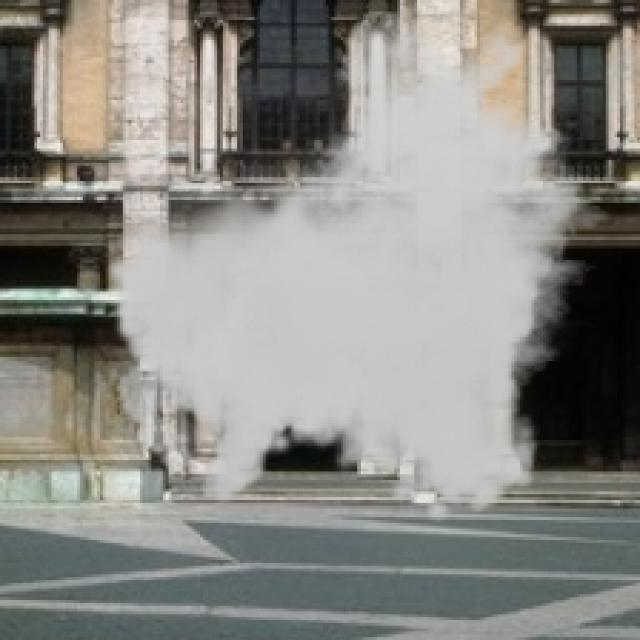Smoke: (102, 8, 628, 526)
